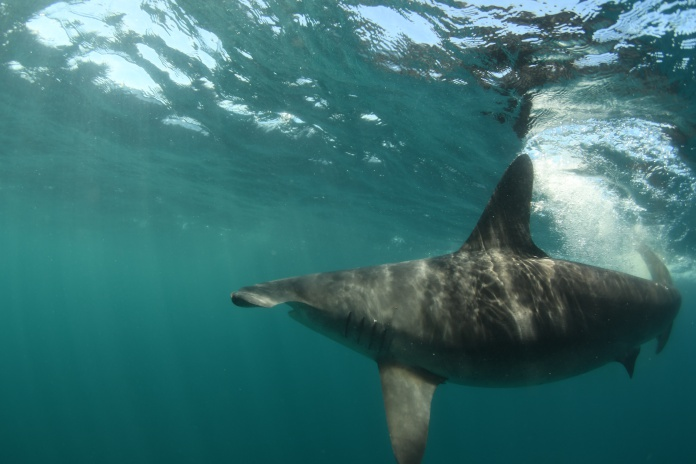Hammer: (210, 142, 686, 464)
